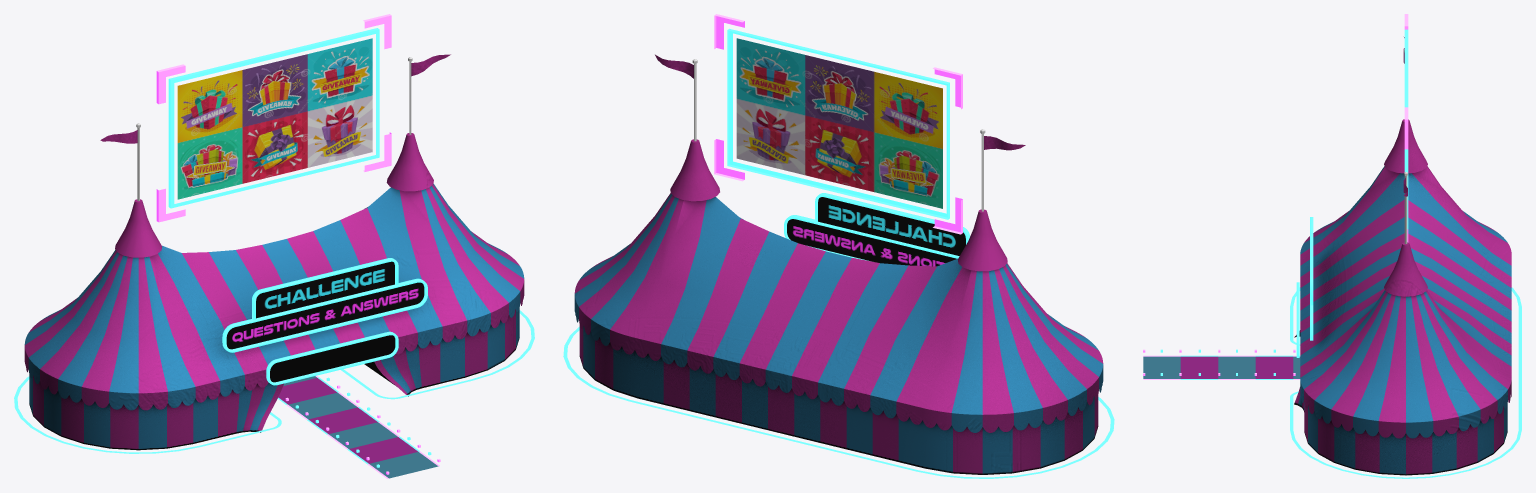
The model's file is tentQA.glb.
3 views of the same model, side by side, from view 1: azimuth 30°, elevation 25°; view 2: azimuth 150°, elevation 25°; view 3: azimuth 270°, elevation 25° (orthographic). The views are drawn at different scales.
Parts seen in each view (by area): view 1: tentQA, Plane.001, Plane.008, Plane.023, Plane.033, Plane.006, Plane.029, Plane.026, Plane.007; view 2: tentQA, Plane.001, Plane.008, Plane.029, Plane.006, Plane.007; view 3: tentQA, Plane.023, Plane.001.
Part boxes in pixels (<box>): tentQA: <box>14,54,534,453</box>; Plane.001: <box>168,28,379,208</box>; Plane.008: <box>226,261,424,349</box>; Plane.023: <box>277,375,440,478</box>; Plane.033: <box>270,335,395,382</box>; Plane.006: <box>222,278,427,352</box>; Plane.029: <box>156,14,391,222</box>; Plane.026: <box>266,331,398,385</box>; Plane.007: <box>252,258,398,319</box>; tentQA: <box>563,54,1114,478</box>; Plane.001: <box>727,28,949,219</box>; Plane.008: <box>787,197,965,266</box>; Plane.029: <box>714,14,962,234</box>; Plane.006: <box>784,215,959,260</box>; Plane.007: <box>815,193,969,244</box>; tentQA: <box>1290,37,1521,478</box>; Plane.023: <box>1143,349,1300,379</box>; Plane.001: <box>1404,29,1408,229</box>.
Bounding box in the file's own units: 2.94 × 1.88 × 2.13.
11 materials, 4 textured.
